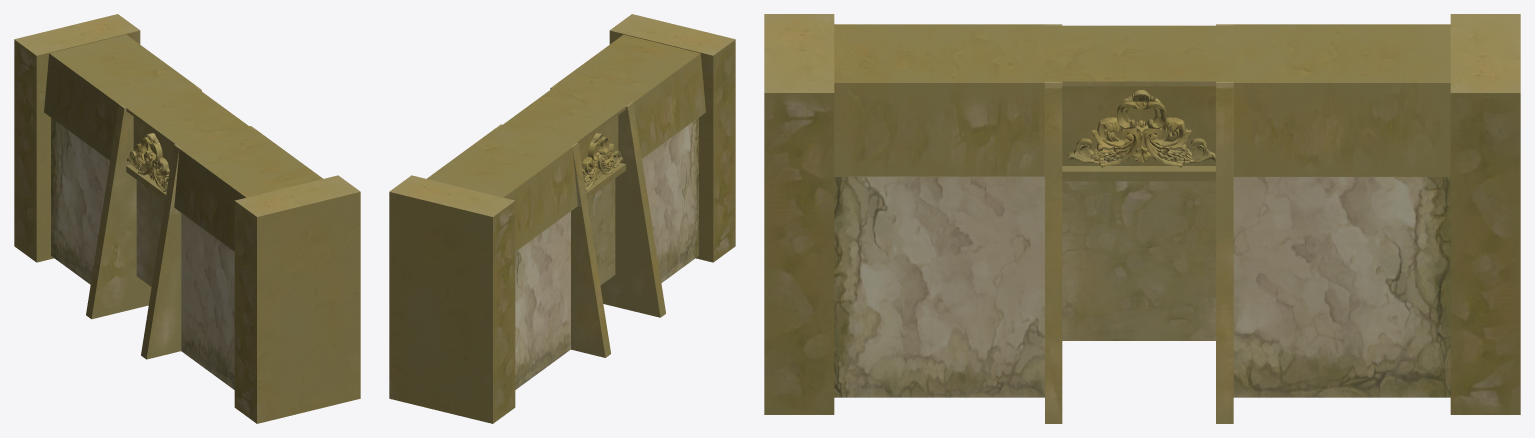
The model's file is tutorial_gate 1.fbx.
3 renders of one model, left to right at view 1: azimuth 30°, elevation 25°; view 2: azimuth 150°, elevation 25°; view 3: azimuth 270°, elevation 25°, orthographic. The views are drawn at different scales.
Parts seen in each view (by area): view 1: wall, side_wall, door, ornament1; view 2: wall, side_wall, door, ornament1; view 3: wall, side_wall, door, ornament.
Part boxes in pixels (<box>): wall: <box>44,34,322,389</box>; side_wall: <box>14,14,360,423</box>; door: <box>136,180,164,286</box>; ornament1: <box>127,133,169,191</box>; wall: <box>427,34,705,389</box>; side_wall: <box>389,14,735,423</box>; door: <box>587,178,615,285</box>; ornament1: <box>582,132,623,191</box>; wall: <box>834,24,1450,423</box>; side_wall: <box>764,14,1520,414</box>; door: <box>1062,181,1215,340</box>; ornament: <box>1067,90,1215,167</box>.
Bounding box in the file's own units: 460 × 636 × 1353.
